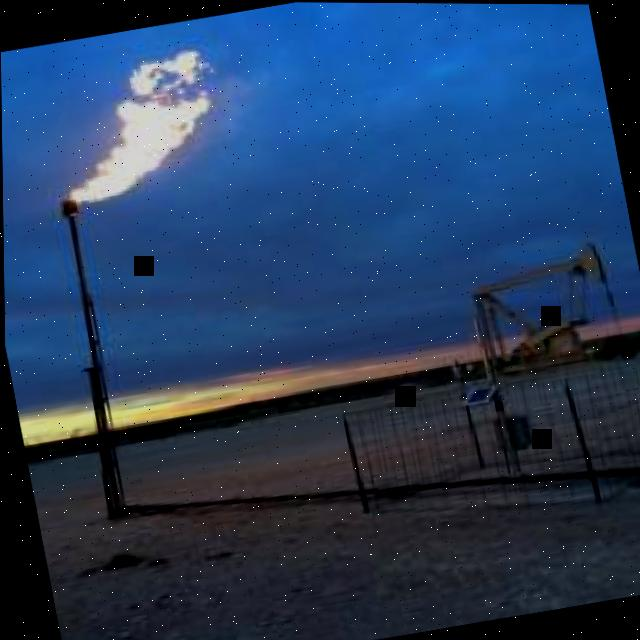fire: (69, 50, 210, 202)
